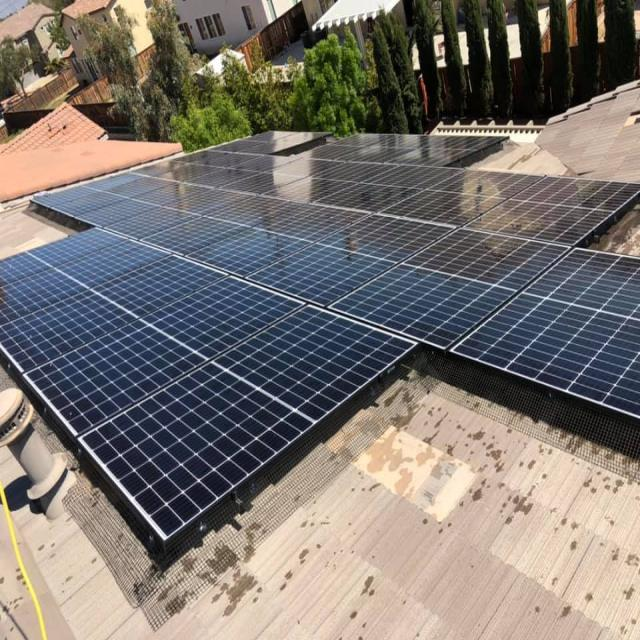clean-solar-panel: (0, 133, 640, 542)
